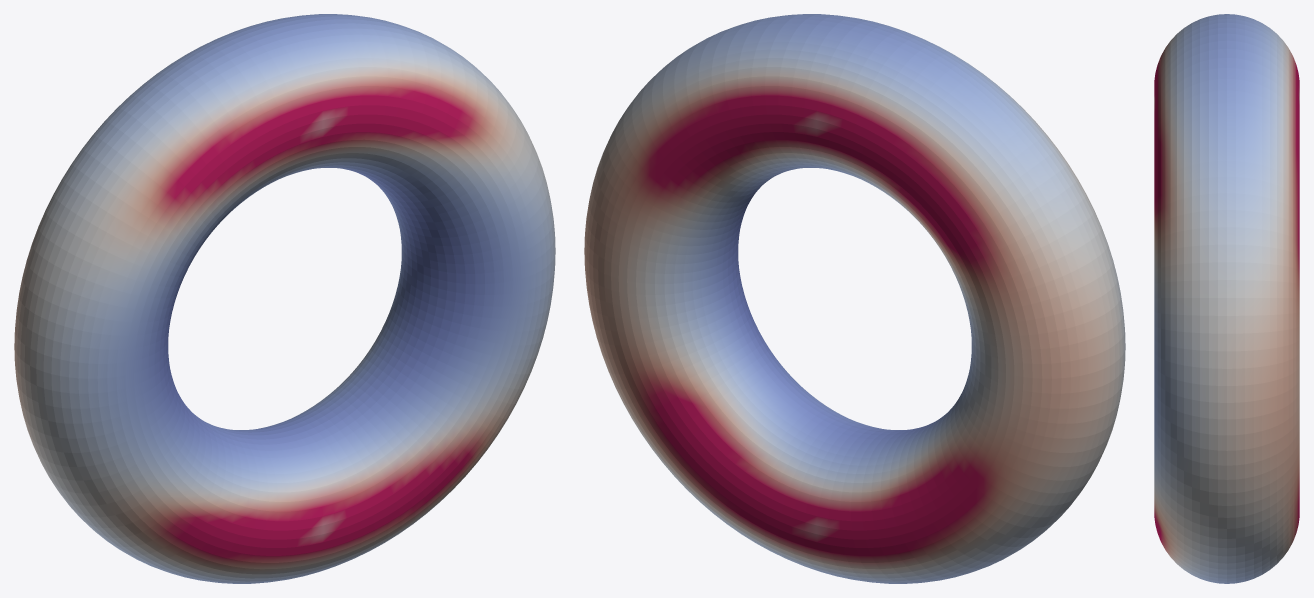
3 views of the same model, side by side, from view 1: azimuth 30°, elevation 25°; view 2: azimuth 150°, elevation 25°; view 3: azimuth 270°, elevation 25° (orthographic). The views are drawn at different scales.
Parts seen in each view (by area): view 1: world; view 2: world; view 3: world.
Part boxes in pixels (bbox=[...]): world: bbox=[14, 14, 555, 583]; world: bbox=[584, 14, 1125, 583]; world: bbox=[1154, 14, 1299, 583].
Bounding box in the file's own units: 22.4 × 22.4 × 5.72.
